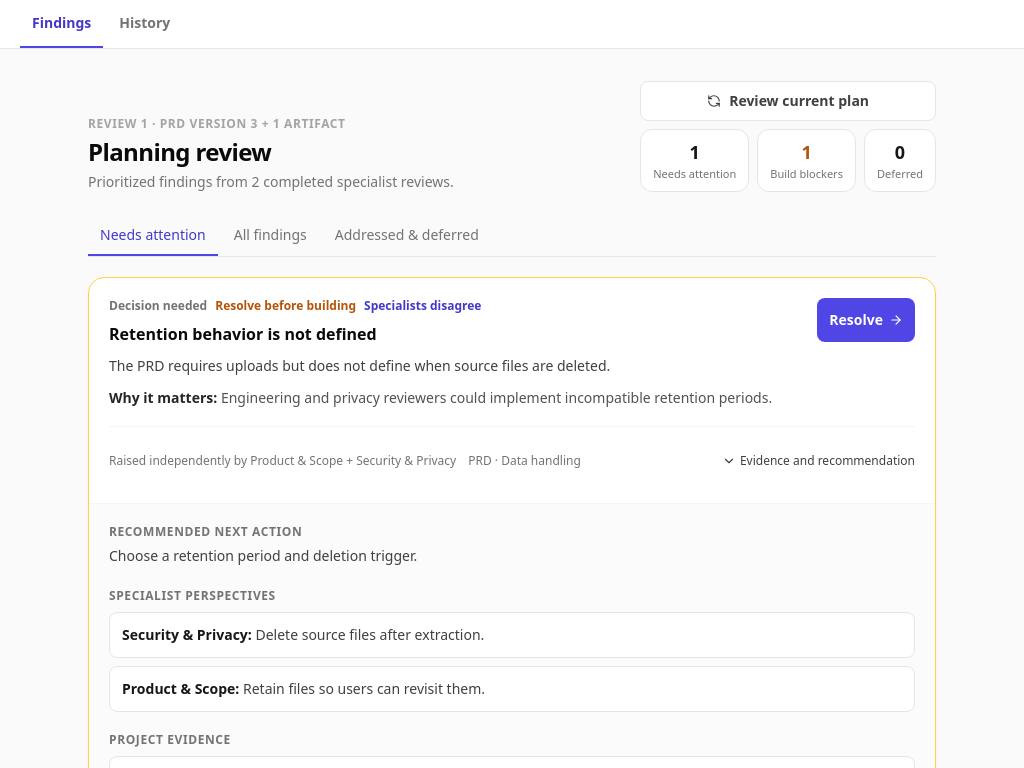
Test: ReviewWorkspace › keeps the prior run and history reachable while starting another review
Click the button "Review current plan".
click(788, 101)  # box [640,81,936,121]
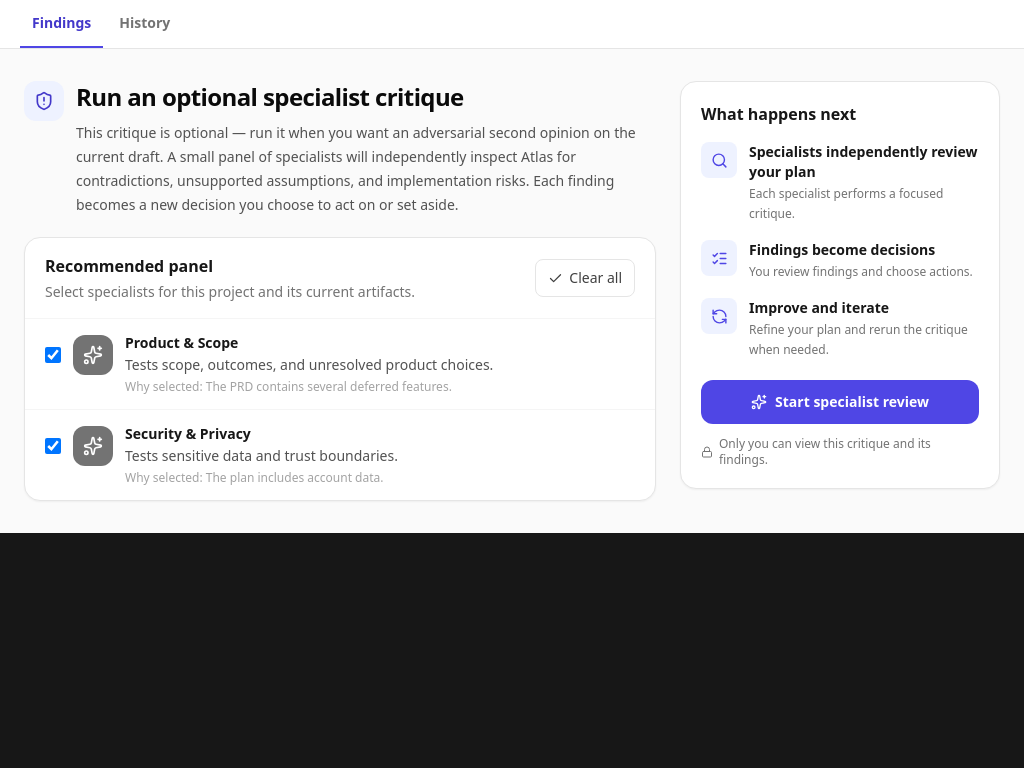
Check: the button with aria-label "Review history" is shown, box [107,0,182,48]
Check: the button "Start specialist review" is shown, box [701,380,979,424]
Click the button with aria-label "Review findings".
click(62, 24)  # box [20,0,103,48]
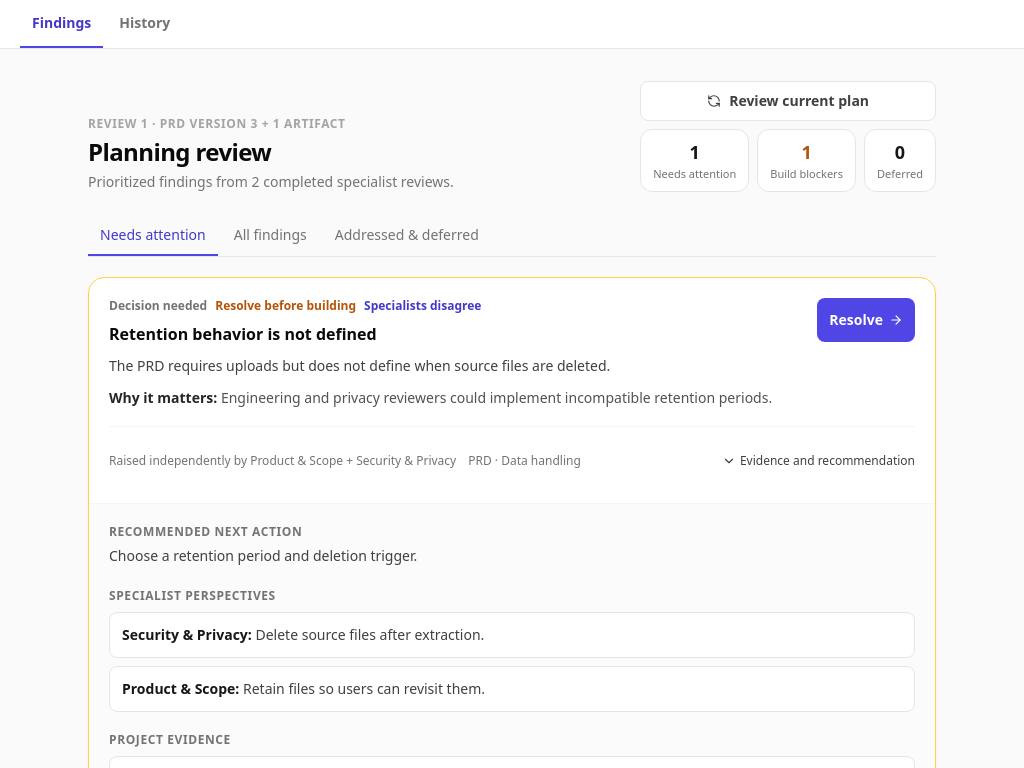
Check: the heading "Planning review" is shown, box [88,134,271,168]
